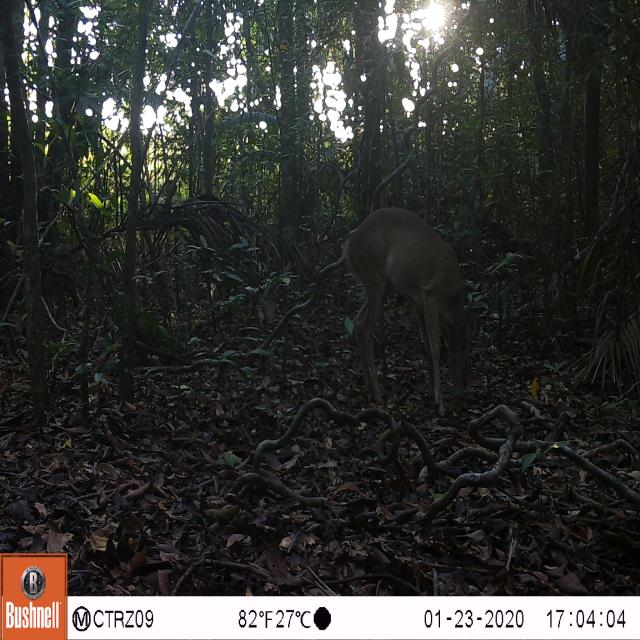White-tailed Deer: (316, 190, 498, 428)
